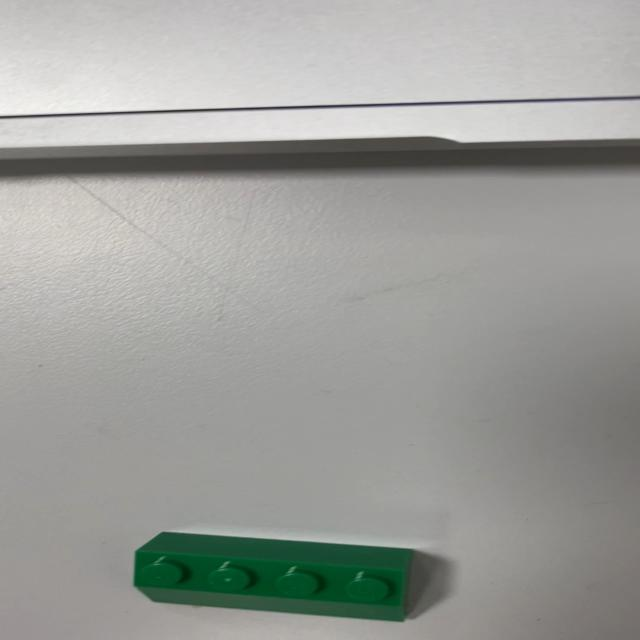P4x2x1: (132, 530, 414, 622)
